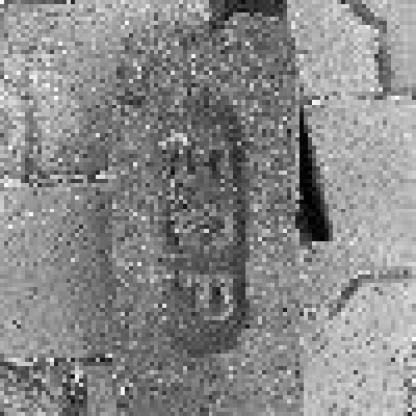brick: (1, 2, 412, 412)
